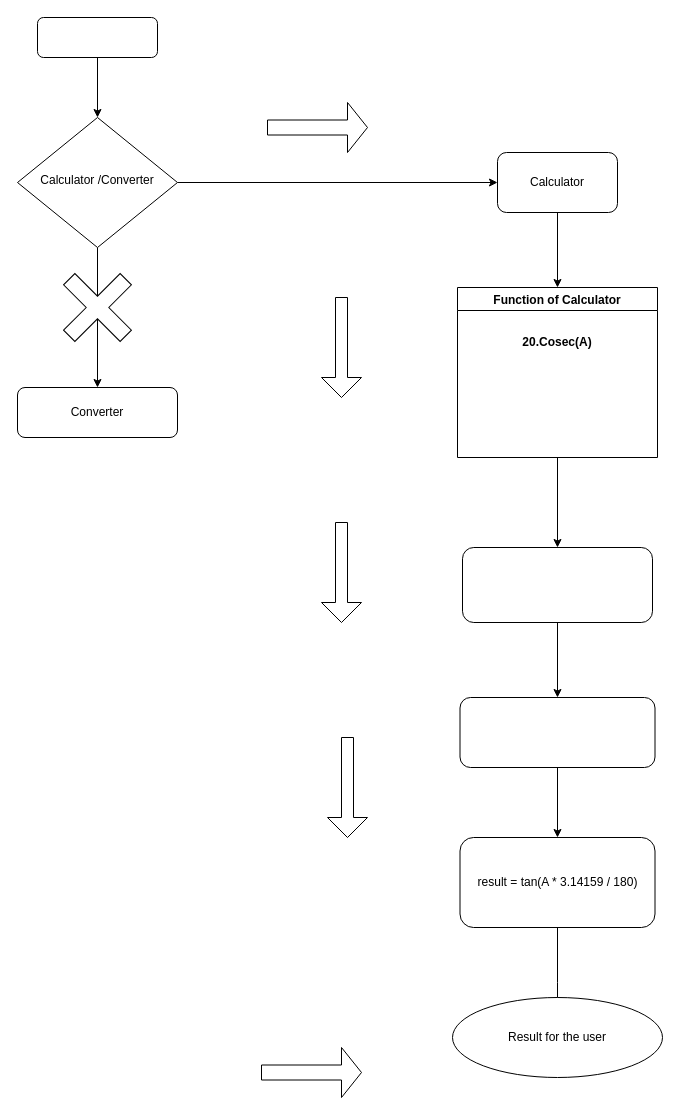
This 680x1115 diagram has some shape labels left out. Each missing label, with the box of its shape:
Enter the values for A: (459, 696, 655, 768)
Move to Selected Function Cosec of (A): (462, 546, 652, 622)
User interface: (36, 16, 158, 58)
